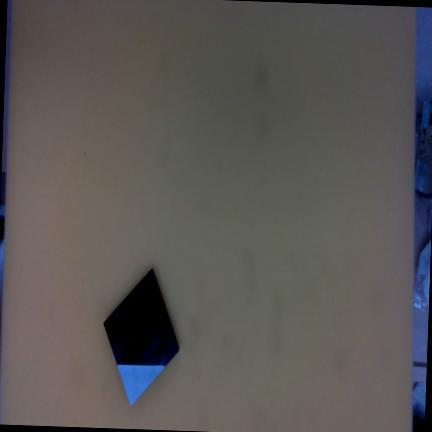tile: (92, 270, 191, 407)
